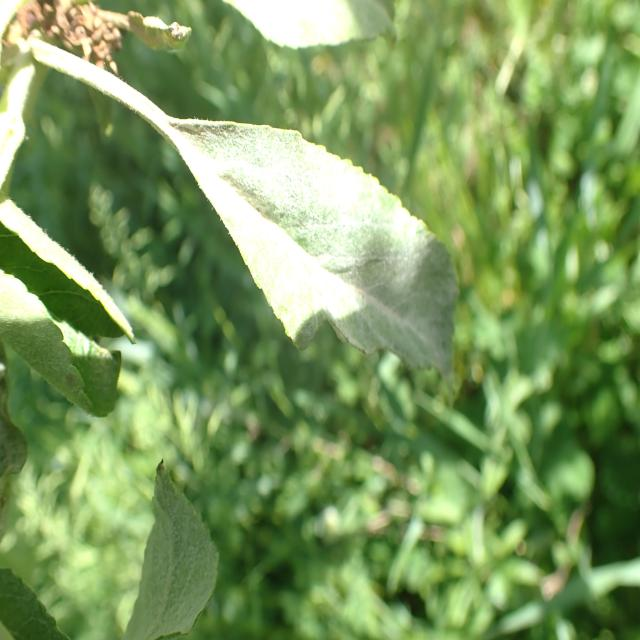Powdery_mildew: (148, 113, 462, 395)
